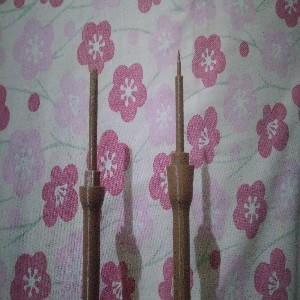obeng: (78, 67, 106, 300)
solder: (165, 48, 196, 300)
